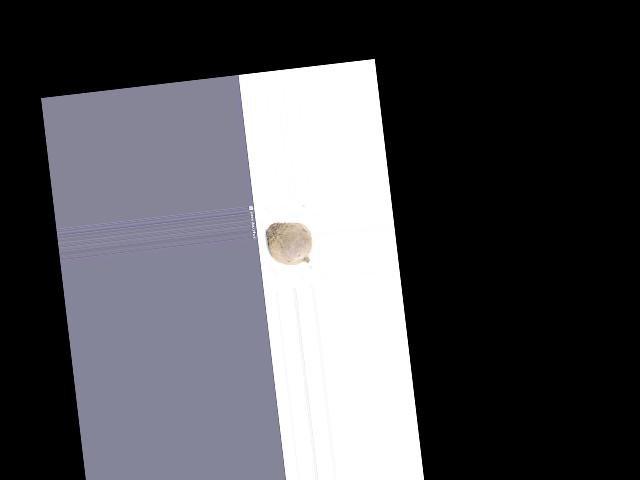beet: (265, 219, 314, 268)
